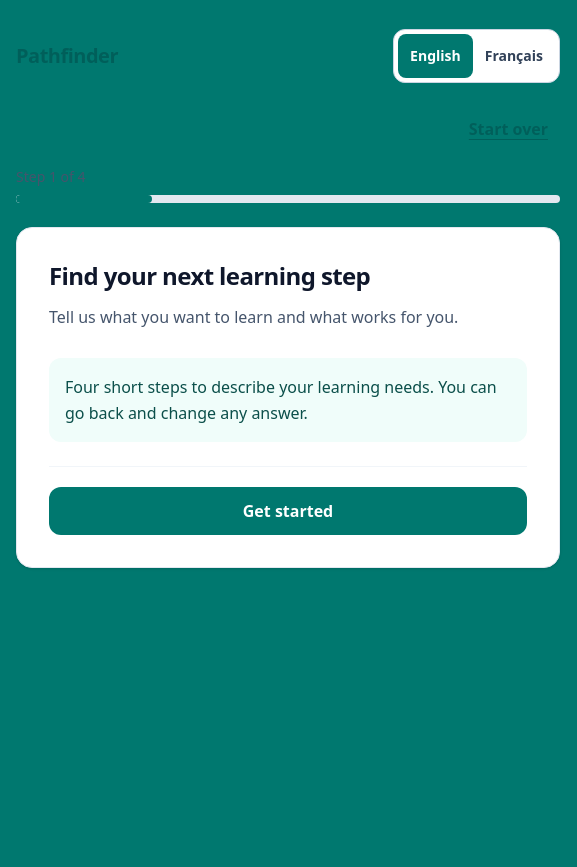
Test: shows an empty state and no save button when only unverified courses exist
Click the button "Get started" at x=288, y=511, box [49,487,527,535]
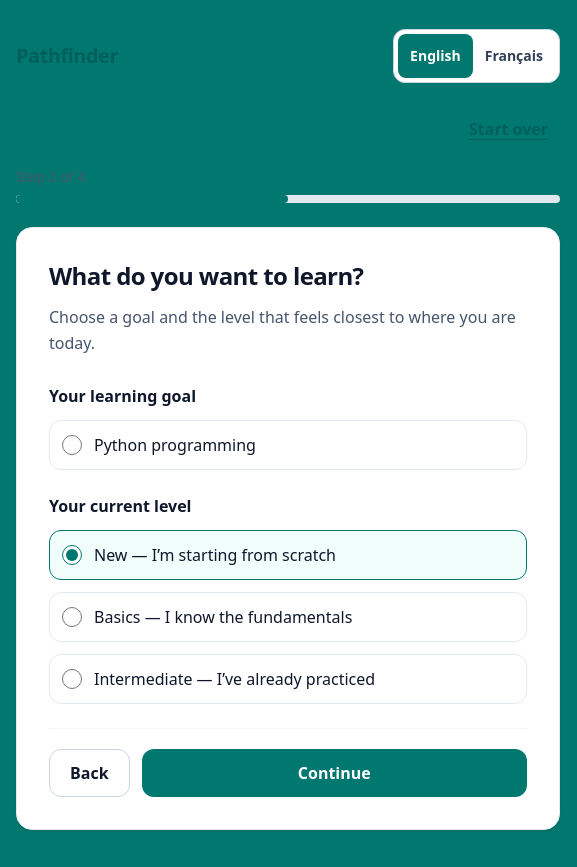
Click the radio button labelled "Python programming" at x=72, y=445, box [62,435,82,455]
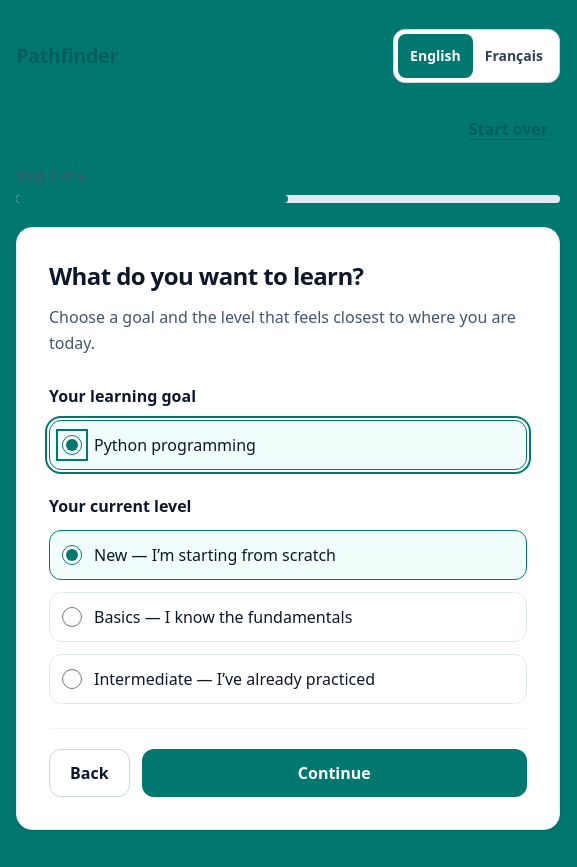
Click the button "Continue" at x=334, y=773, box [142,749,527,797]
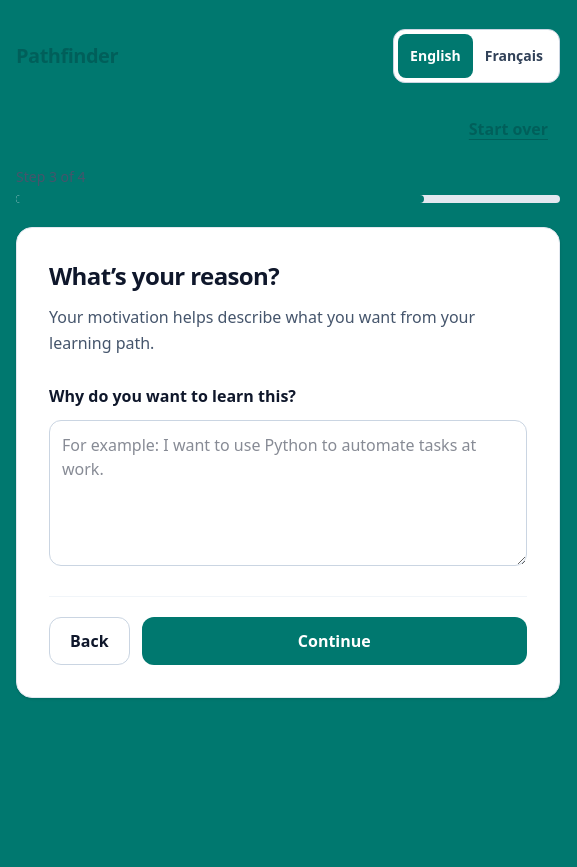
Type "Build useful tools" into the text box at x=288, y=493, box [49,420,527,566]
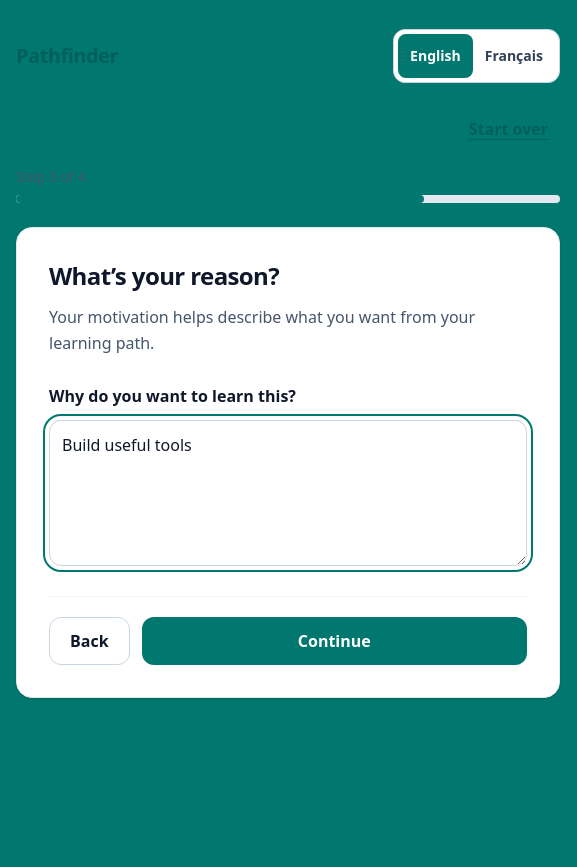
Click the button "Continue" at x=334, y=641, box [142,617,527,665]
(page scrolled)
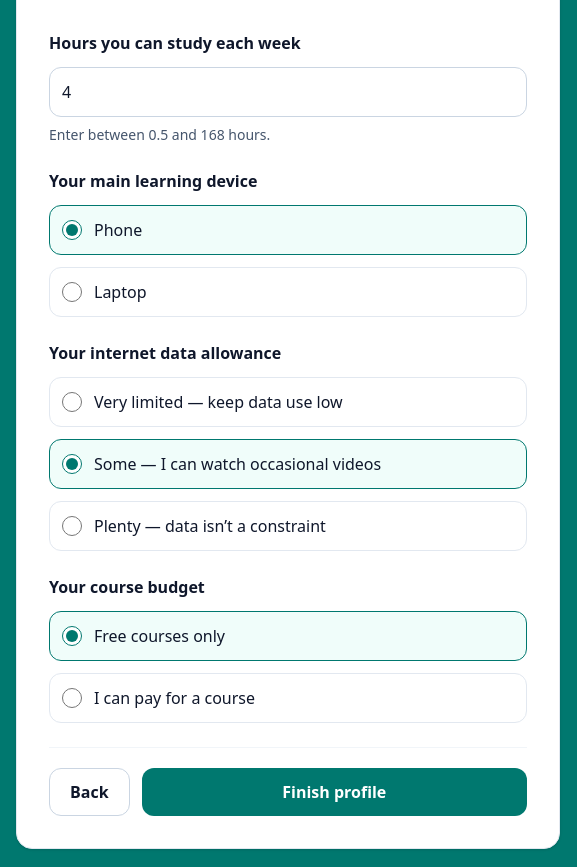
Click the button "Finish profile" at x=334, y=792, box [142,768,527,816]
(page scrolled)
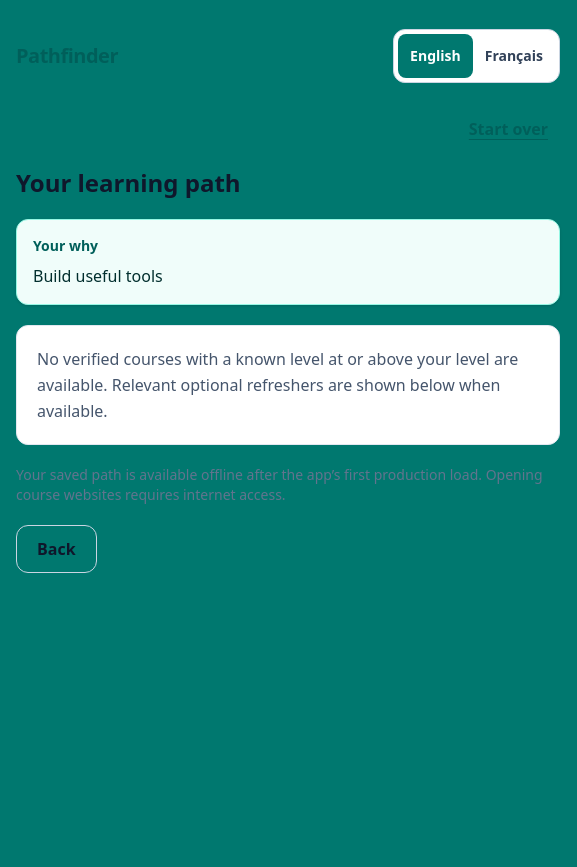
Now the text "No verified courses with a known level at or above your level are available. Relevant optional refreshers are shown belo" is shown, box [37,348,518,422]
Now the radio button labelled "Save on this device" is gone
